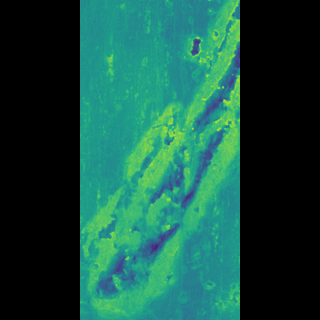Loch: (119, 1, 199, 315)
